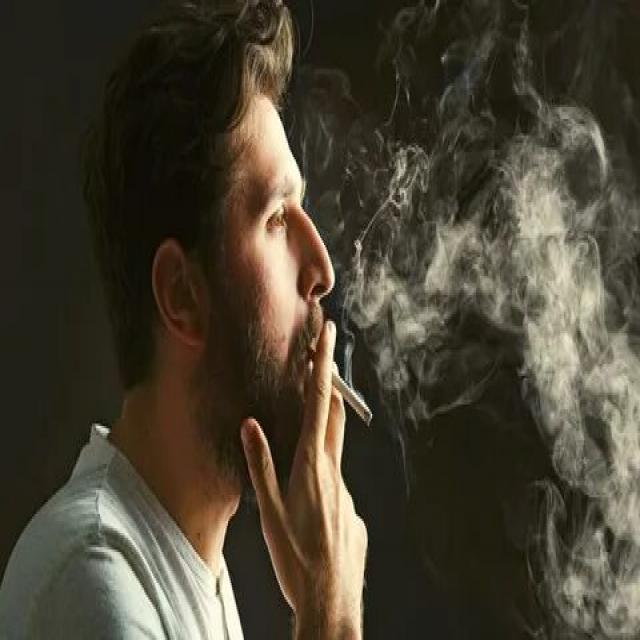smoke: (317, 352, 376, 433)
